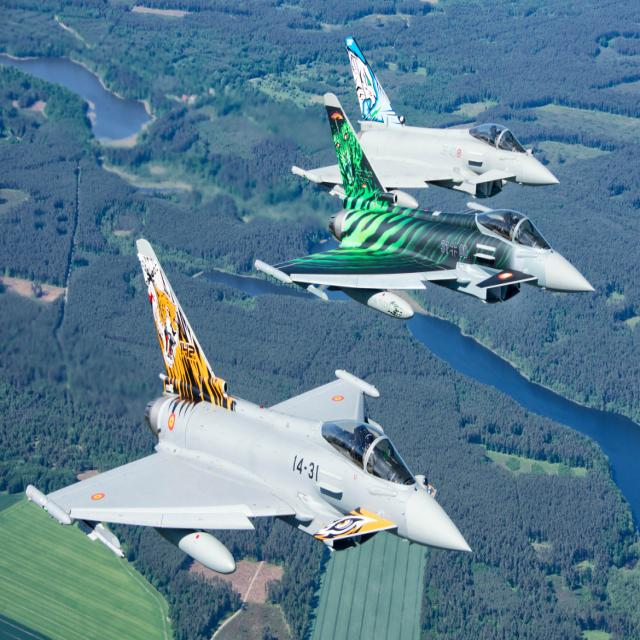MIL_Plane: (26, 238, 473, 575), (254, 92, 596, 320), (292, 35, 560, 209)
